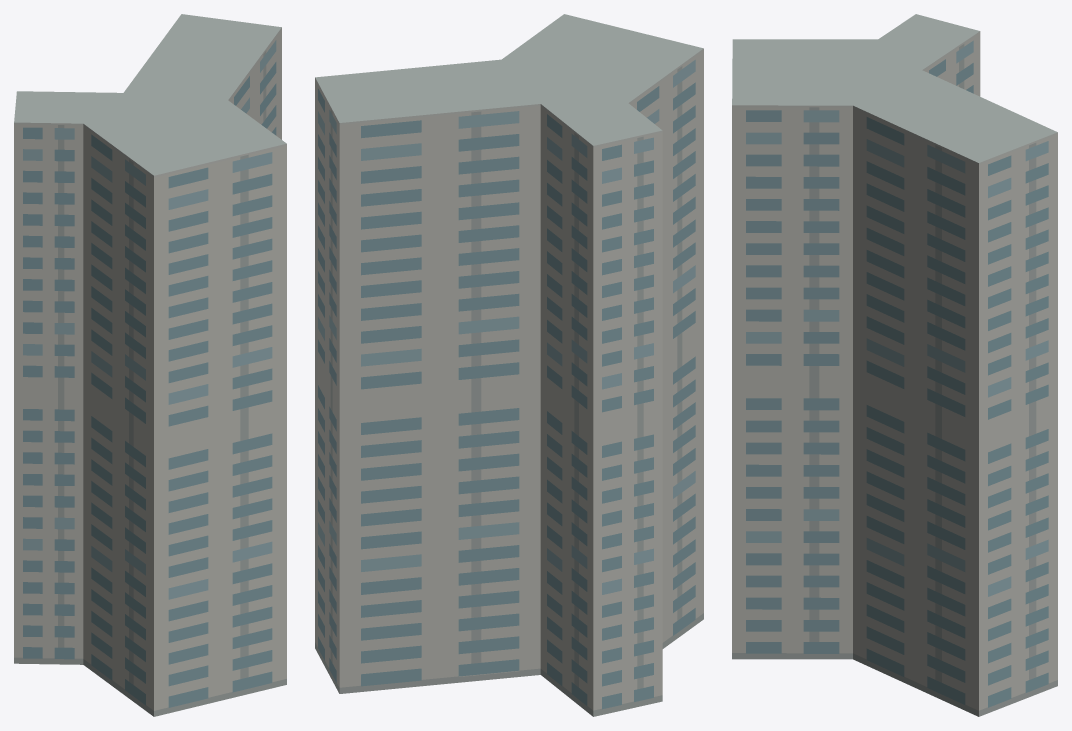
The model's file is residential-21dadcdf-5e3a-4d20-96bf-fba99afe2462.glb.
3 renders of one model, left to right at view 1: azimuth 30°, elevation 25°; view 2: azimuth 150°, elevation 25°; view 3: azimuth 270°, elevation 25°, orthographic. The views are drawn at different scales.
Parts seen in each view (by area): view 1: residential-21dadcdf-5e3a-4d20-96bf-fba99afe2462.tmp; view 2: residential-21dadcdf-5e3a-4d20-96bf-fba99afe2462.tmp; view 3: residential-21dadcdf-5e3a-4d20-96bf-fba99afe2462.tmp.
Part boxes in pixels (bbox=[...]): residential-21dadcdf-5e3a-4d20-96bf-fba99afe2462.tmp: bbox=[14, 14, 286, 716]; residential-21dadcdf-5e3a-4d20-96bf-fba99afe2462.tmp: bbox=[315, 14, 703, 716]; residential-21dadcdf-5e3a-4d20-96bf-fba99afe2462.tmp: bbox=[732, 14, 1057, 716].
Size of the model in its own units: 42.74 by 74 by 39.46.
